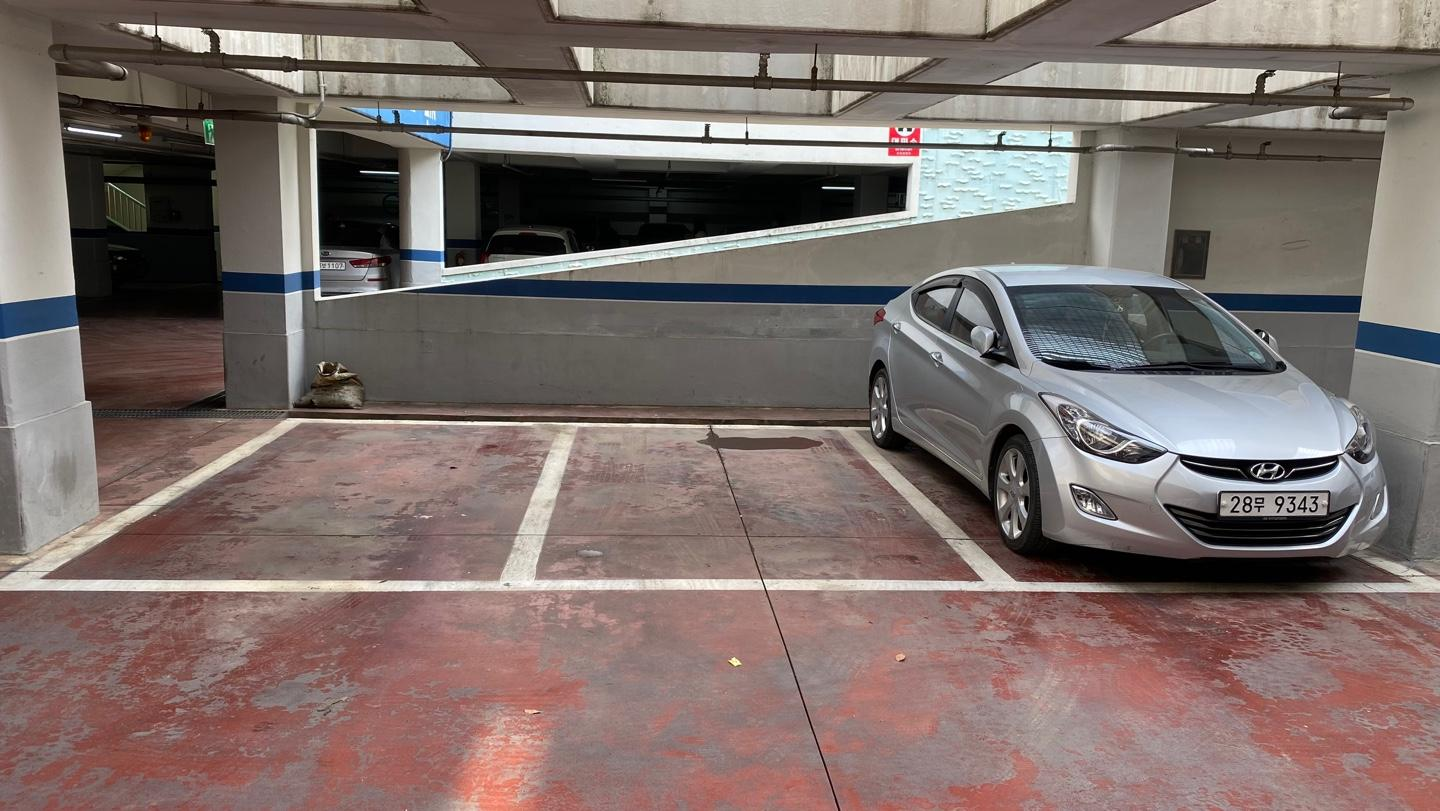empty: (501, 420, 1021, 592)
occupied: (870, 257, 1411, 578)
